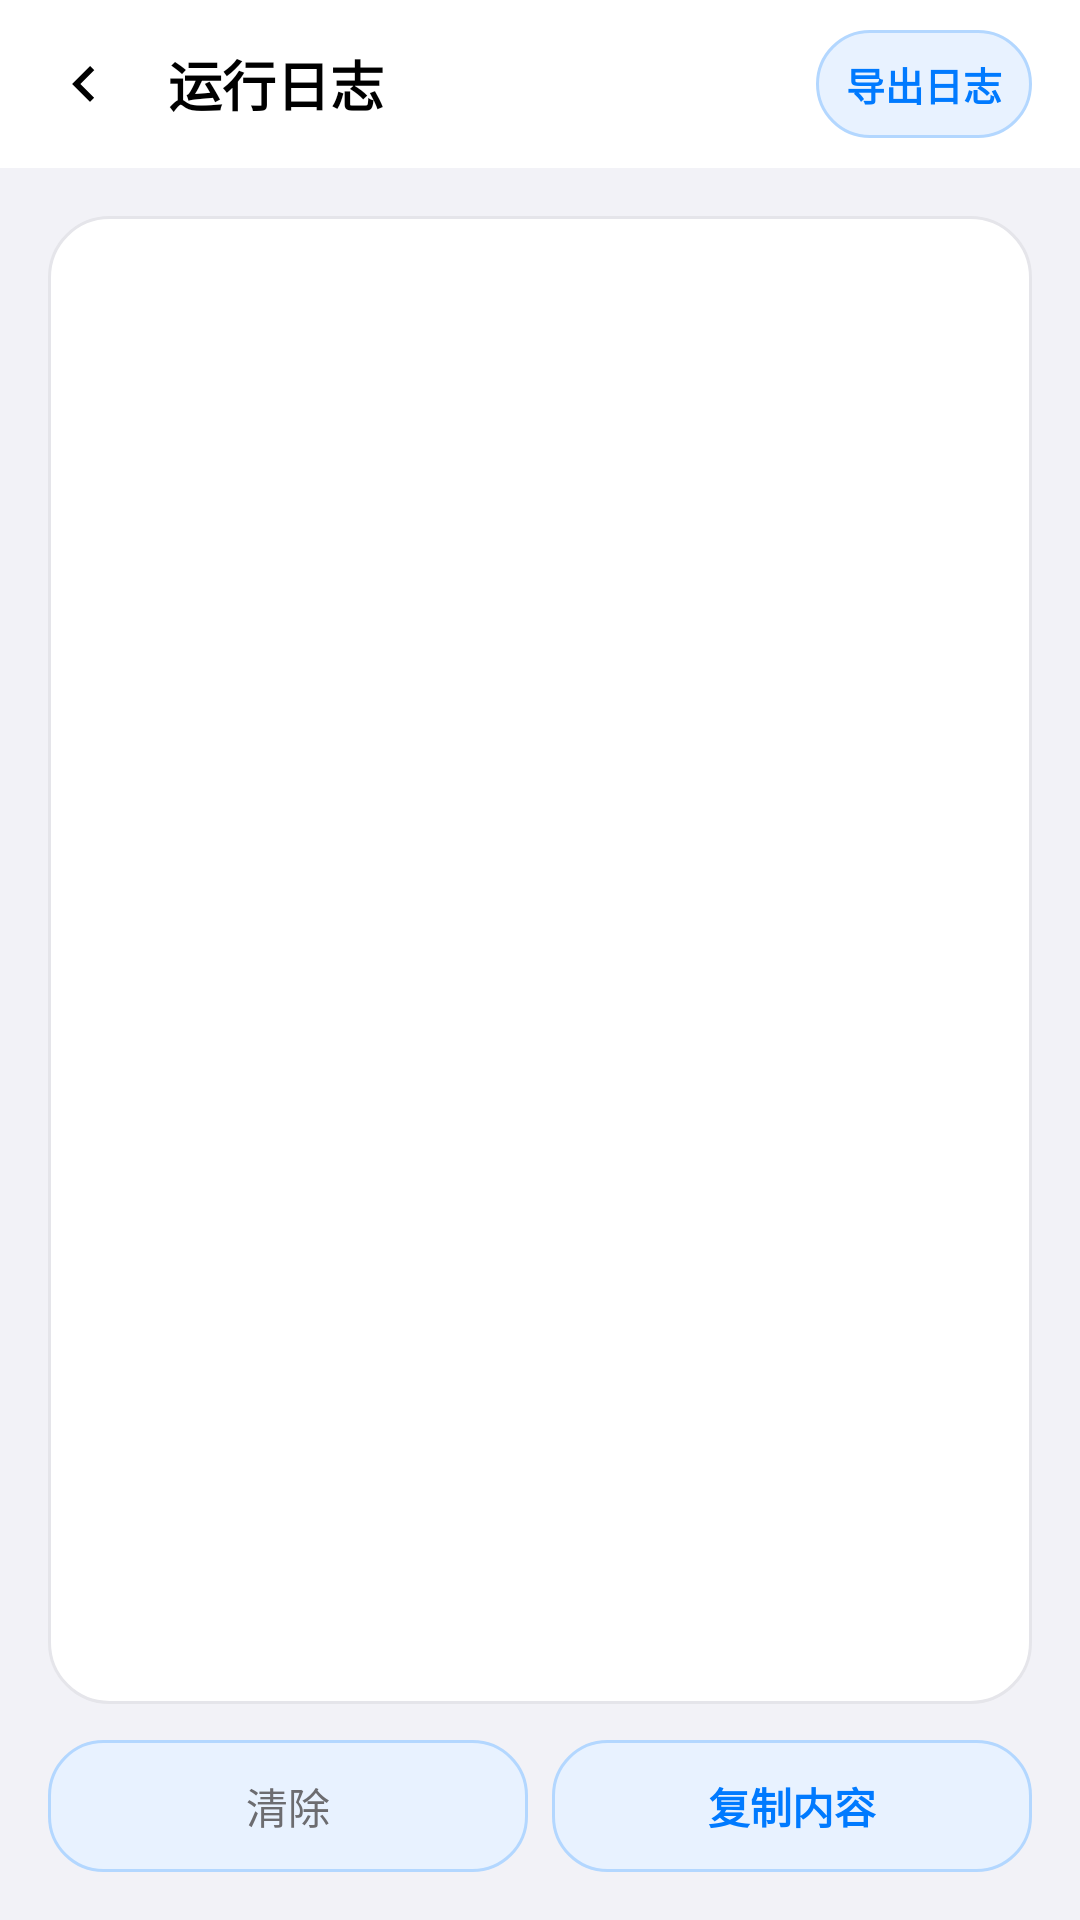

Icon click points for this 1080px×1920px phone screenshot, format point (x, y):
返回: point (83, 84)
